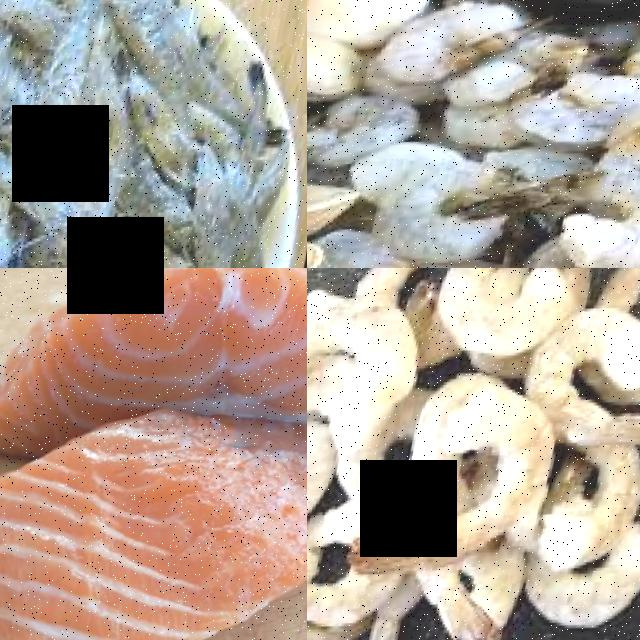salmon: (0, 396, 307, 640), (0, 268, 307, 470)
shrimp: (360, 382, 573, 589), (307, 284, 431, 467), (383, 156, 533, 268), (22, 0, 104, 188), (434, 268, 575, 371), (557, 310, 640, 465), (307, 86, 430, 178), (556, 163, 640, 268), (0, 0, 76, 57)
